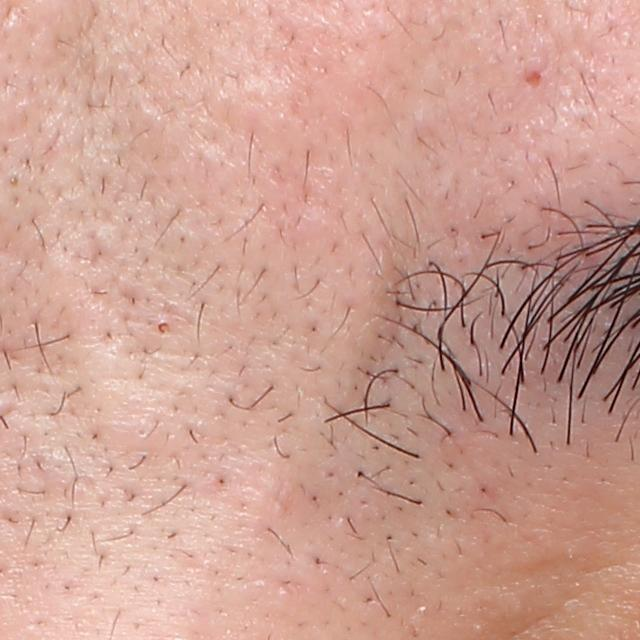comedo: (153, 314, 177, 339)
